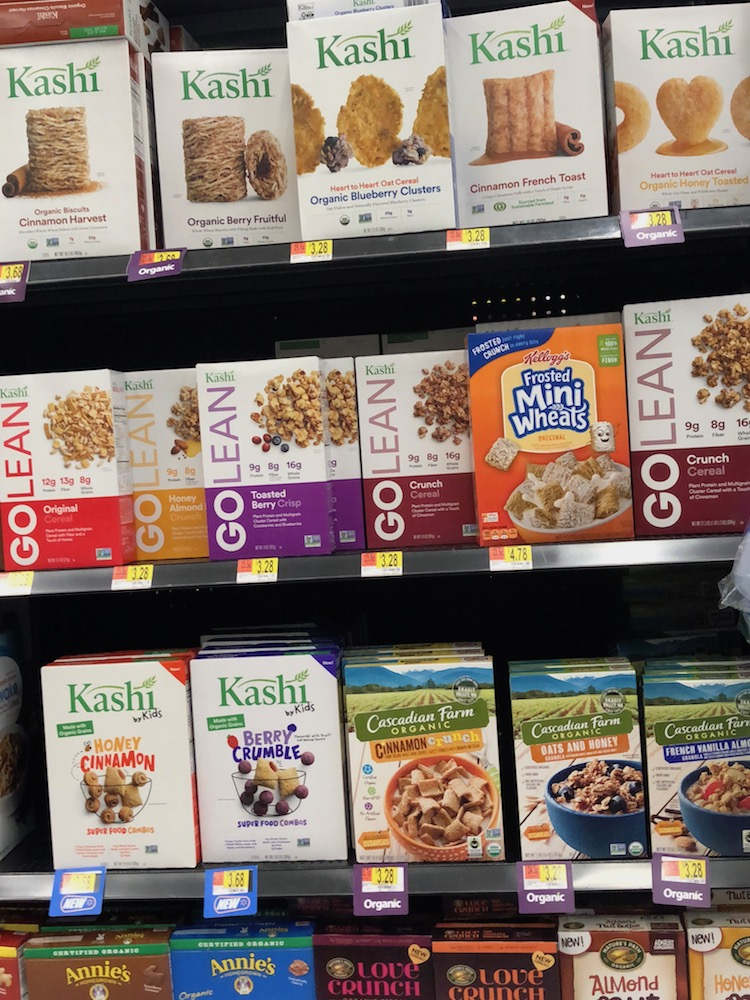Frosted Mini Original -9295869: (471, 329, 626, 535)
